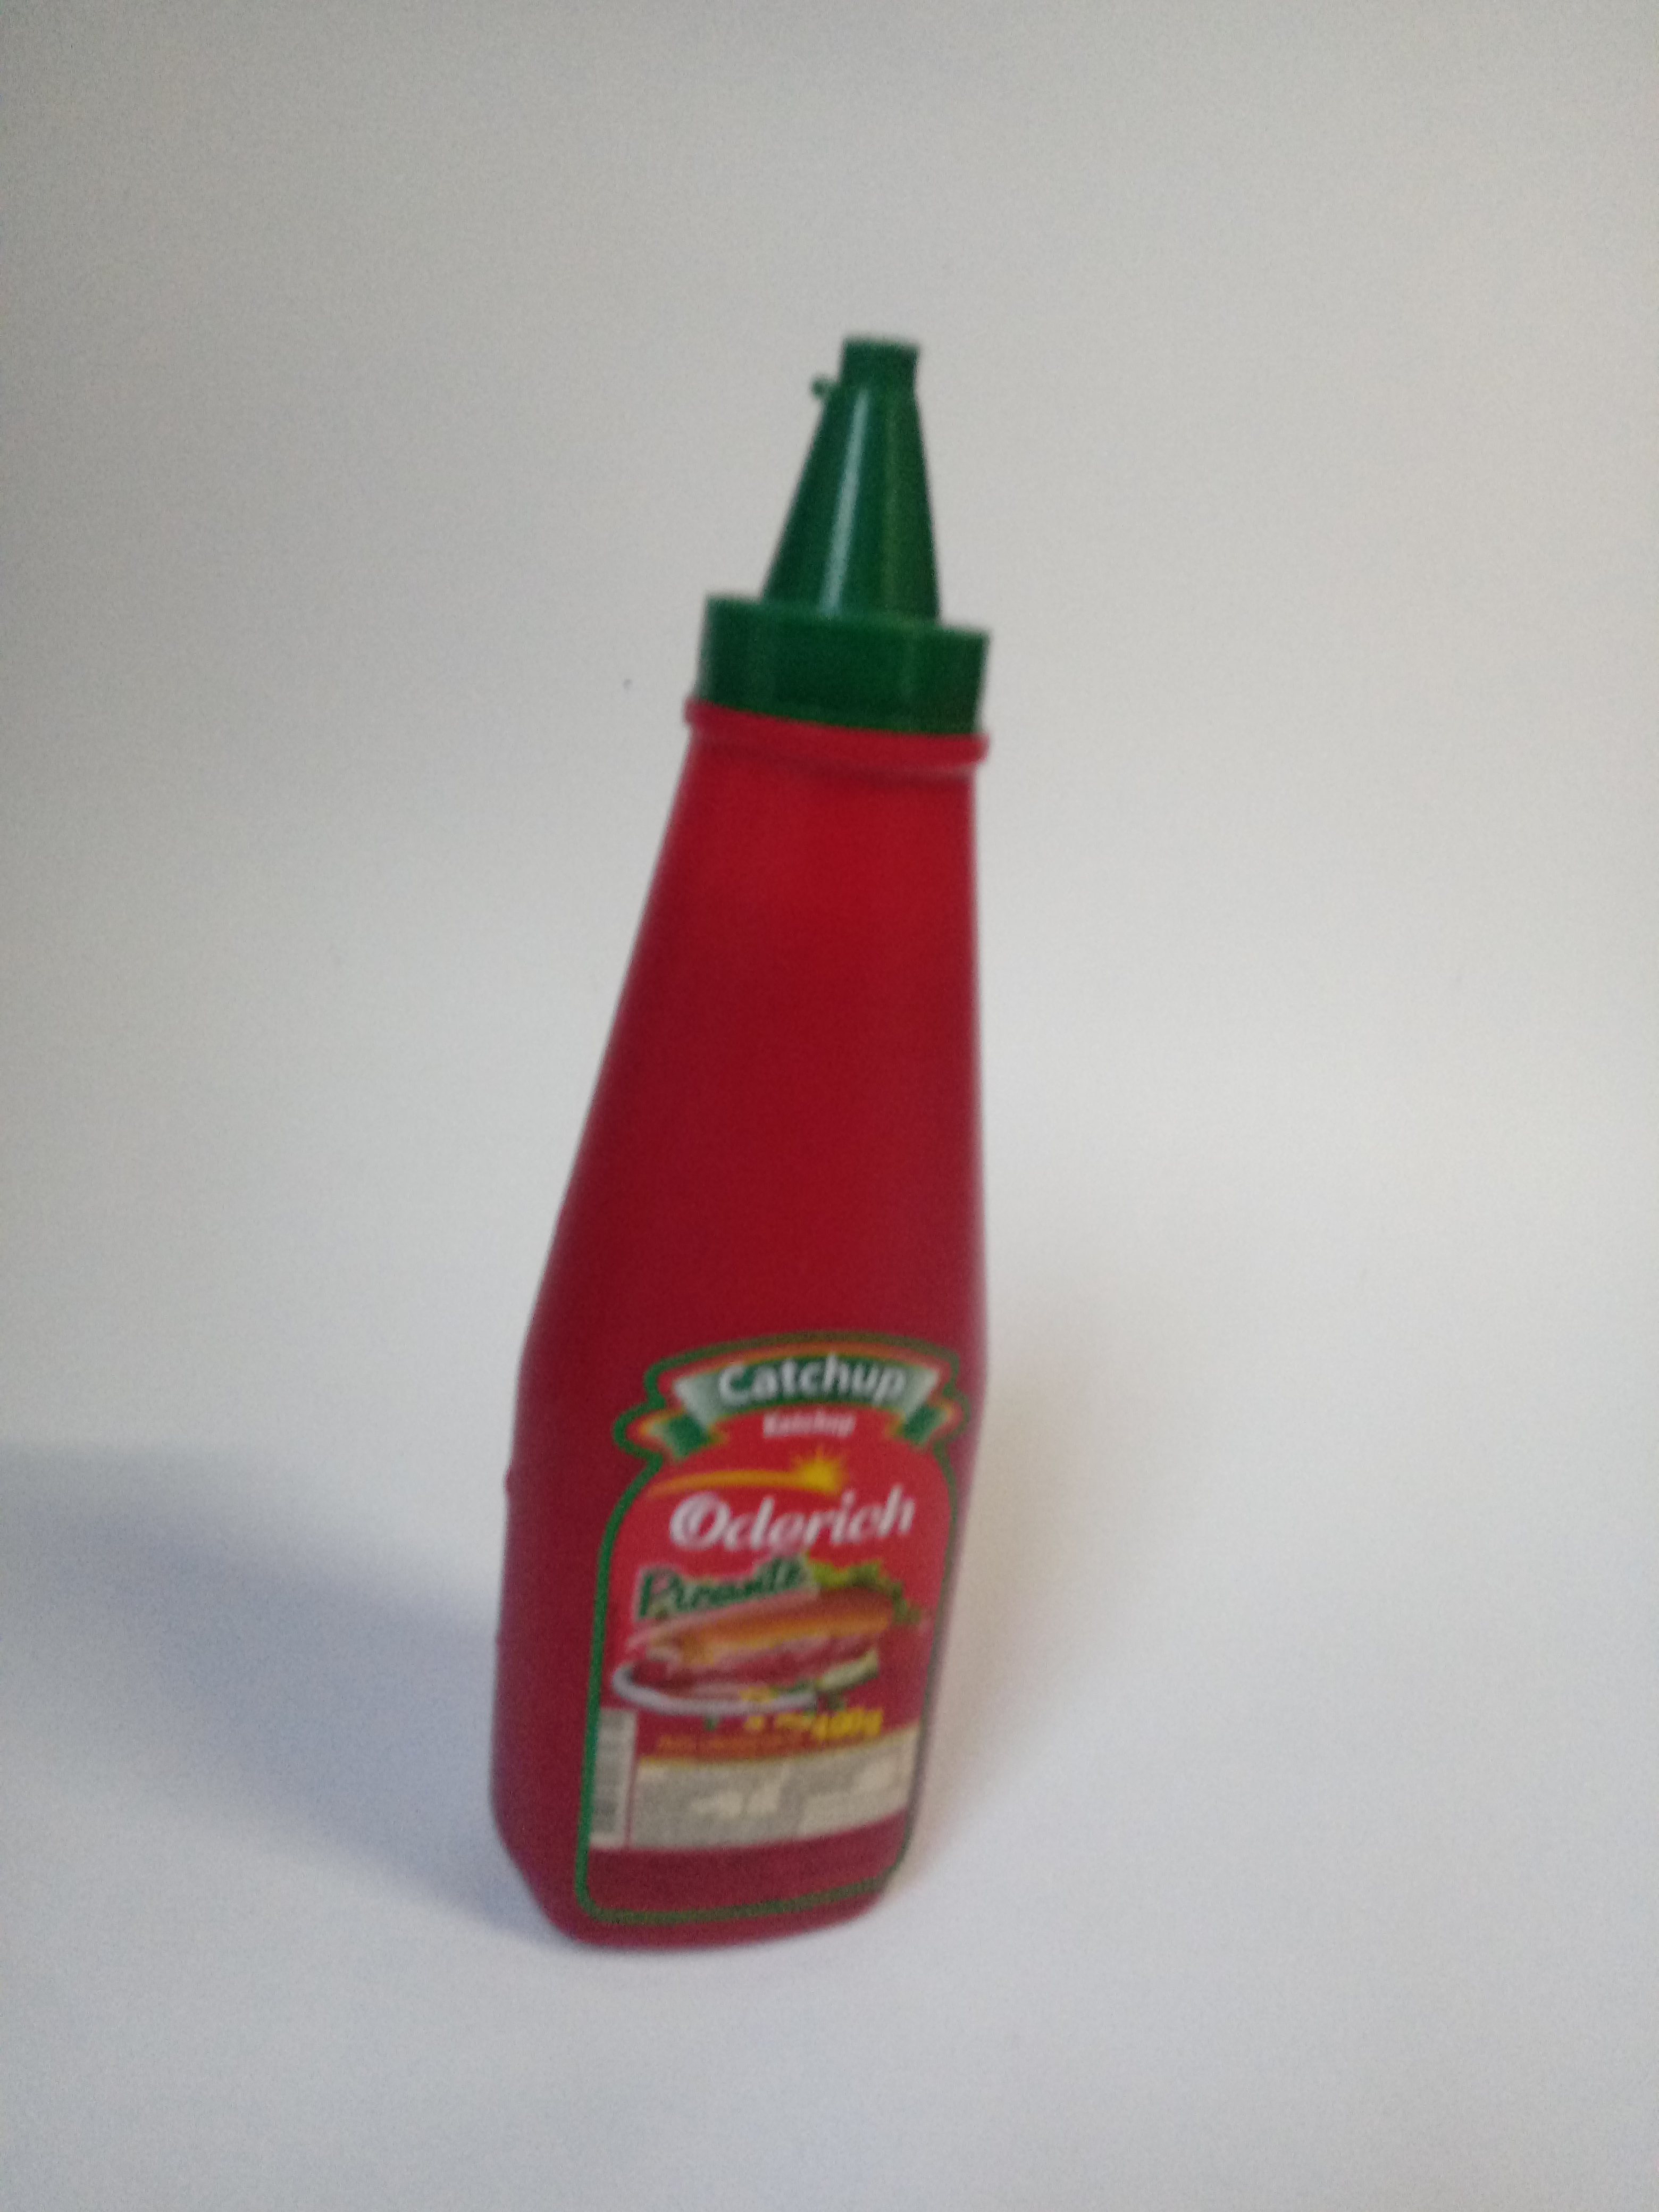catchup-oderich: (486, 293, 1009, 1951)
